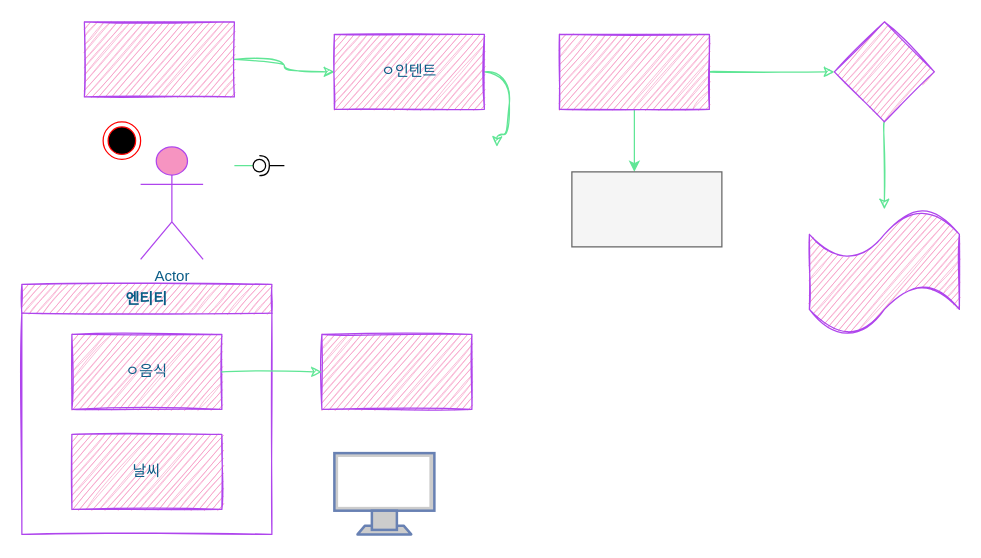
This 981x558 diagram has some shape labels left out. The shapes that lost their labels are listed below. From the top down, each one's centre as x and y in pixels, then its label:
(158,59): ㅇ임호고 3조
(396,371): 짜장면 짜파게티 아이스크림
